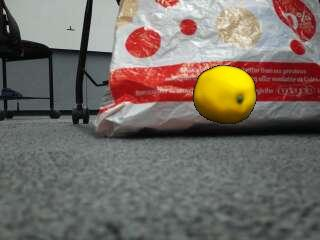lemon: (194, 66, 255, 124)
